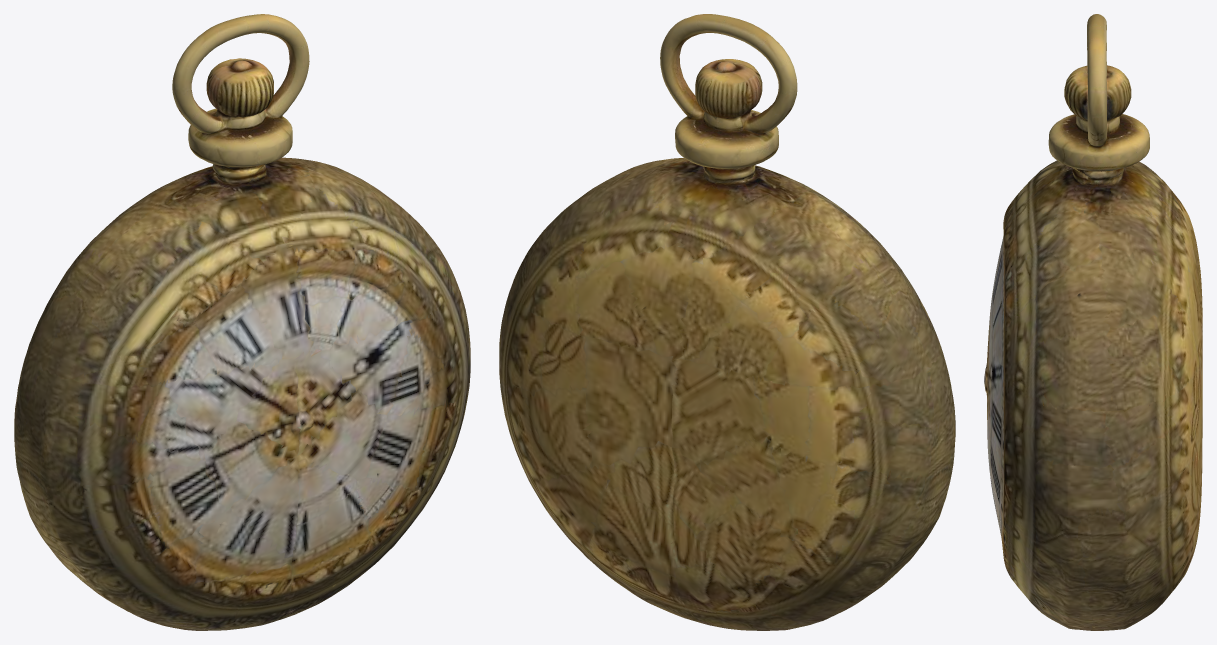
3 renders of one model, left to right at view 1: azimuth 30°, elevation 25°; view 2: azimuth 150°, elevation 25°; view 3: azimuth 270°, elevation 25°, orthographic. The views are drawn at different scales.
Size of the model in its own units: 1.5 by 2 by 0.6796.
1 material, 1 textured.
